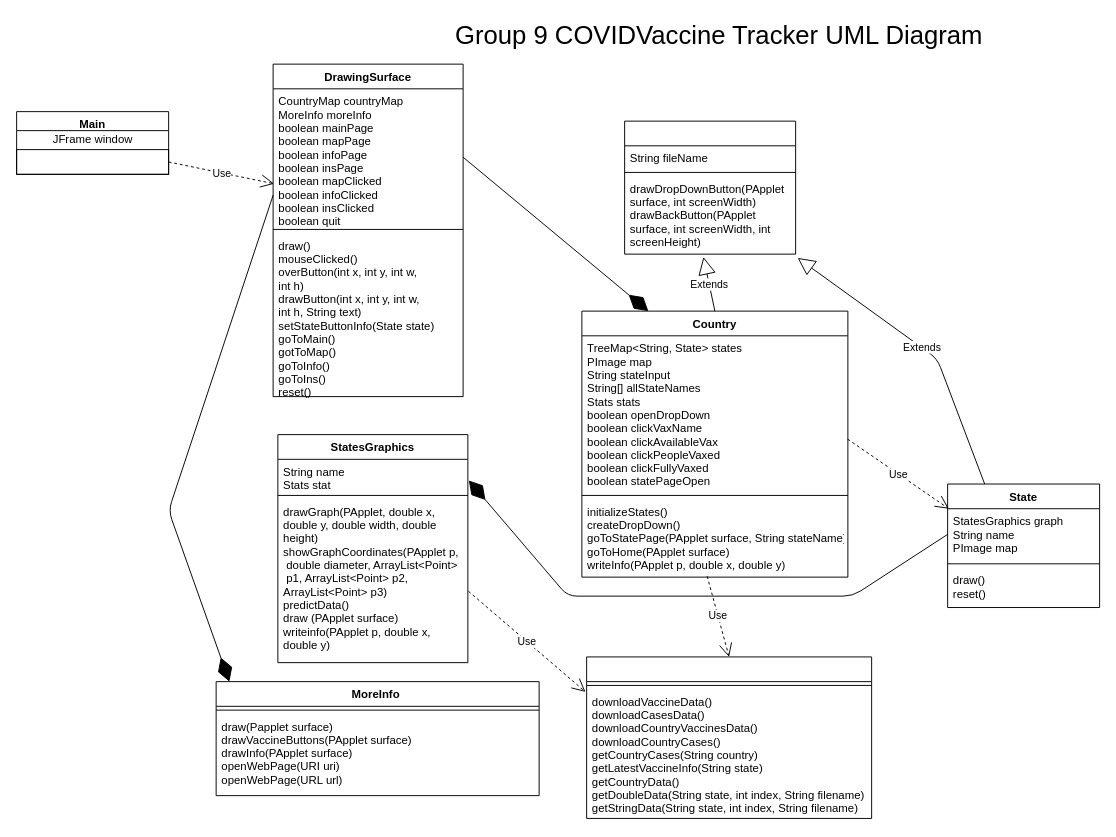
Image size: 1116x837. Some labels were removed from this diagram. Here are the shapes that lost their labels. From the top down, the box of each, then its label:
(16, 149, 169, 174): main(String[] args)
(624, 120, 796, 254): Frame
(586, 656, 872, 818): Stats
